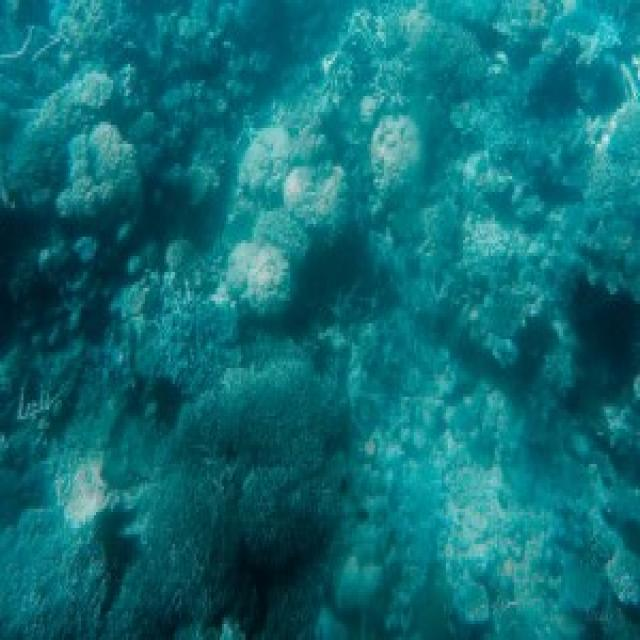Bleached: (445, 443, 551, 599), (56, 123, 142, 215), (219, 241, 291, 318), (238, 119, 295, 206), (56, 452, 116, 526), (285, 167, 347, 235), (372, 116, 421, 199), (462, 219, 515, 276)
